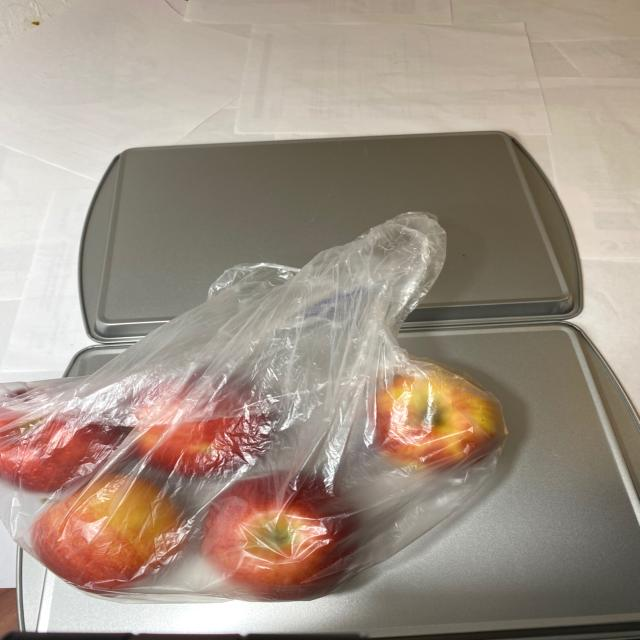apple: (0, 316, 513, 606)
